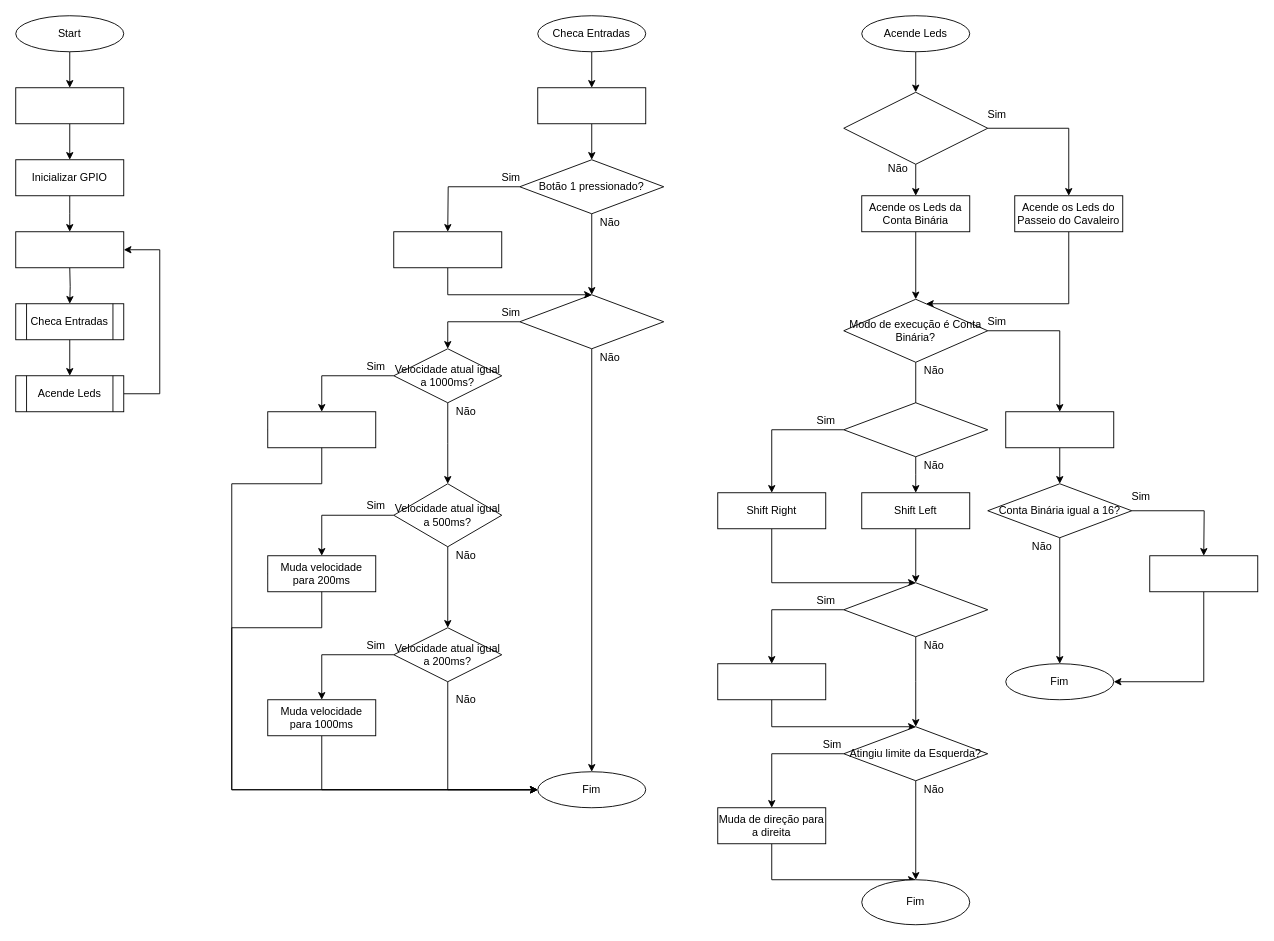
Image size: 1274x941. Some labels were removed from this diagram. The shapes that lost their labels are listed below. From the top down, each one's centre as x and y in pixels, then its label:
the point at 69,105: Inicializar SysTick
the point at 591,105: Checar botões que foram pressionados
the point at 915,127: Modo de execução é Passeio do Cavaleiro?
the point at 69,249: Aguarda X milisegundos
the point at 447,249: Altera o modo de execução
the point at 591,321: Botão 2 pressionado?
the point at 321,429: Muda velocidade para 500ms
the point at 915,429: Direção igual Direita?
the point at 1059,429: Incrementa estado da Conta Binária
the point at 1203,573: Zera contador
the point at 915,609: Atingiu limite da Direita?
the point at 771,681: Muda de direção para a esquerda
